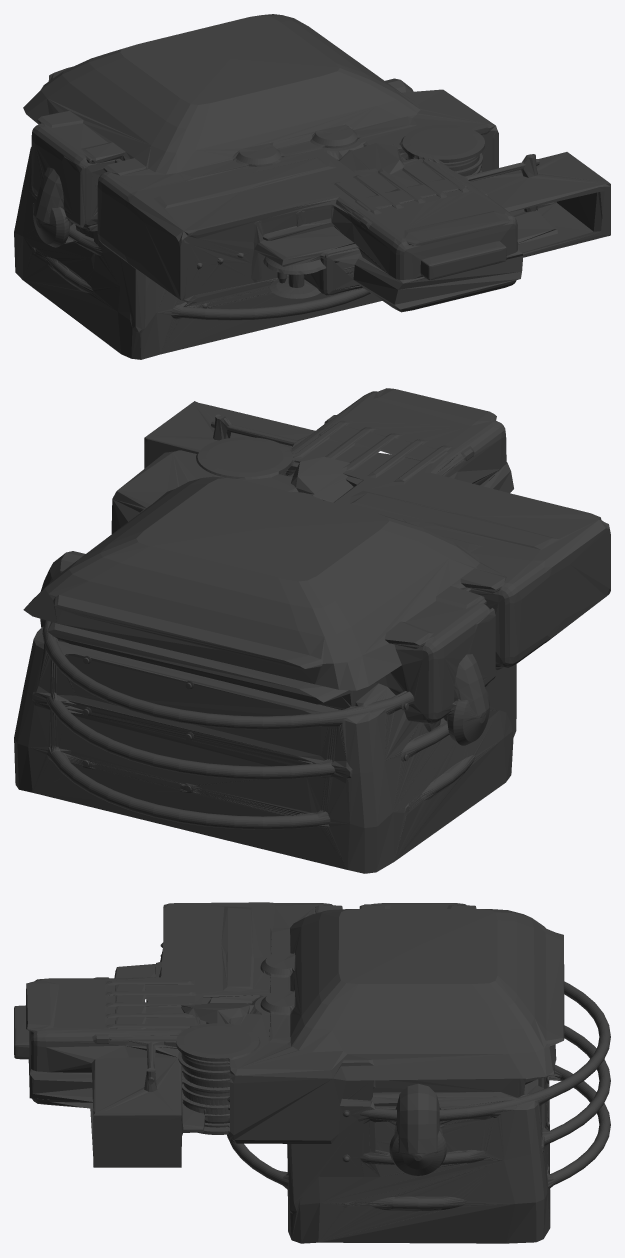
The model's file is chest_visible_wear.glb.
3 views of the same model, one above another, from view 1: azimuth 30°, elevation 25°; view 2: azimuth 150°, elevation 25°; view 3: azimuth 270°, elevation 25° (orthographic). The views are drawn at different scales.
Visible parts, largest first — view 1: body, foliage, interior, facade, lighting, street_scene, access, foot_l, handle_l, weapon, lid_panel; view 2: body, facade, lid_panel, foliage, interior, access, street_scene, foot_l, handle_l, weapon; view 3: body, facade, interior, lid_panel, foliage, weapon, handle_r, access, street_scene, foot_r, lighting.
Boxes of the visible parts, left/top/right/bottom form: body: left=14, top=44, right=523, bottom=359; foliage: left=95, top=59, right=375, bottom=152; interior: left=334, top=152, right=610, bottom=294; facade: left=72, top=14, right=400, bottom=92; lighting: left=241, top=226, right=360, bottom=298; street_scene: left=263, top=178, right=415, bottom=290; access: left=380, top=154, right=539, bottom=208; foot_l: left=23, top=280, right=121, bottom=353; handle_l: left=33, top=187, right=86, bottom=247; weapon: left=439, top=130, right=484, bottom=174; lid_panel: left=23, top=67, right=133, bottom=162; body: left=14, top=388, right=610, bottom=873; facade: left=45, top=478, right=309, bottom=665; lid_panel: left=23, top=509, right=489, bottom=771; foliage: left=248, top=482, right=425, bottom=599; interior: left=144, top=401, right=315, bottom=468; access: left=211, top=397, right=414, bottom=468; street_scene: left=375, top=428, right=499, bottom=483; foot_l: left=395, top=738, right=505, bottom=860; handle_l: left=428, top=677, right=489, bottom=745; weapon: left=199, top=437, right=282, bottom=456; body: left=14, top=902, right=610, bottom=1243; facade: left=319, top=920, right=564, bottom=1243; interior: left=33, top=1057, right=186, bottom=1167; lid_panel: left=341, top=907, right=563, bottom=1147; foliage: left=295, top=909, right=417, bottom=1015; weapon: left=155, top=1032, right=230, bottom=1134; handle_r: left=325, top=1086, right=446, bottom=1240; access: left=50, top=995, right=184, bottom=1091; street_scene: left=58, top=963, right=183, bottom=1001; foot_r: left=319, top=1210, right=429, bottom=1242; lighting: left=114, top=964, right=155, bottom=1002.
Bounding box in the file's own units: 86.03 × 44.99 × 106.
Materials: 1 (1 with a texture image).
